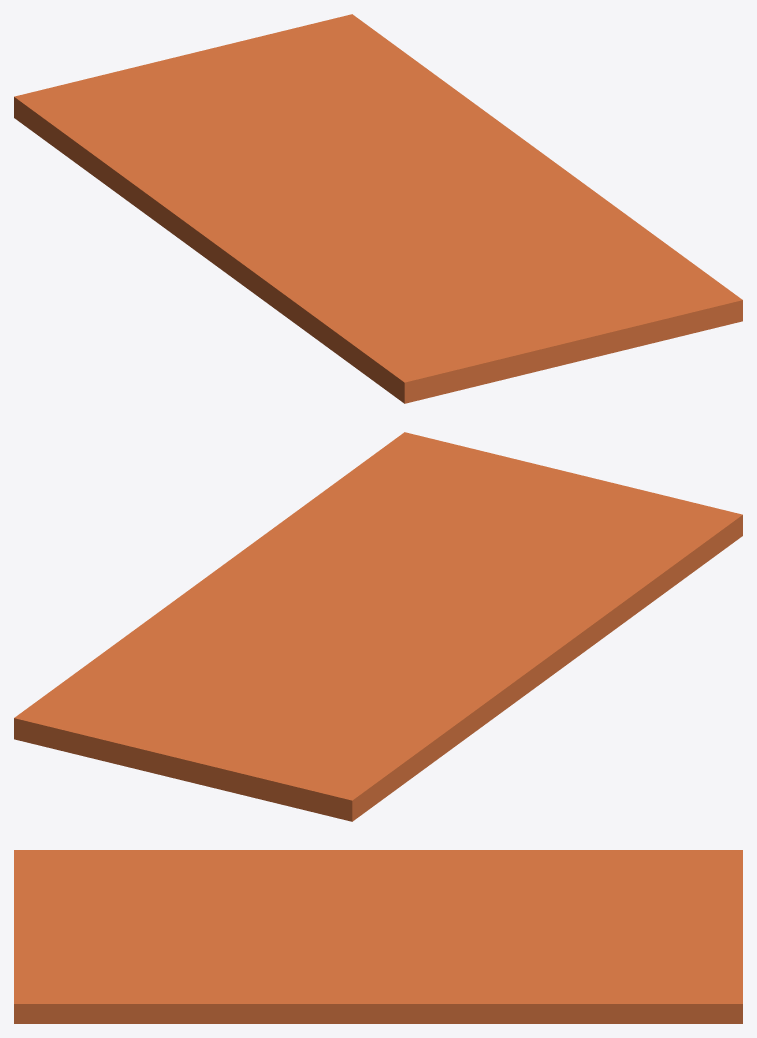
Rendered from road.fbx.
The picture shows the model from 3 angles, top to bottom: view 1: azimuth 30°, elevation 25°; view 2: azimuth 150°, elevation 25°; view 3: azimuth 270°, elevation 25°; orthographic projection. The views are drawn at different scales.
Visible parts, largest first — view 1: Cube; view 2: Cube; view 3: Cube.
Boxes of the visible parts, x1,y1,x2,y2 form: Cube: (14, 14, 742, 403); Cube: (14, 432, 742, 821); Cube: (14, 850, 742, 1023).
Bounding box in the file's own units: 1000 × 60 × 2000.
